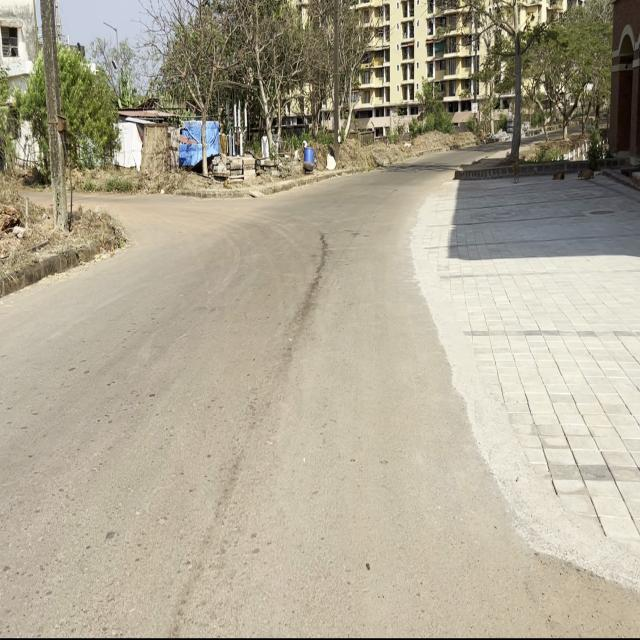Road: (0, 166, 522, 640)
